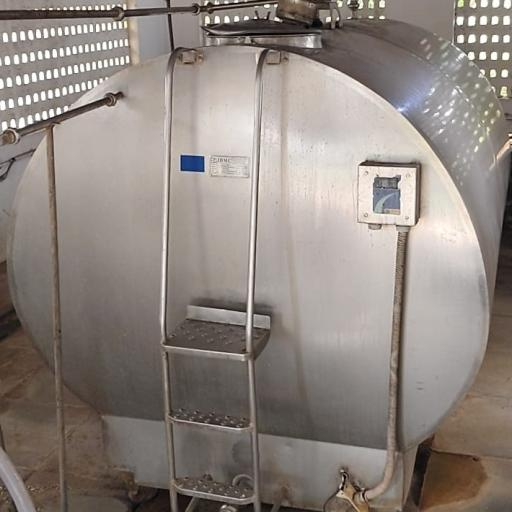silo: (8, 13, 511, 509)
